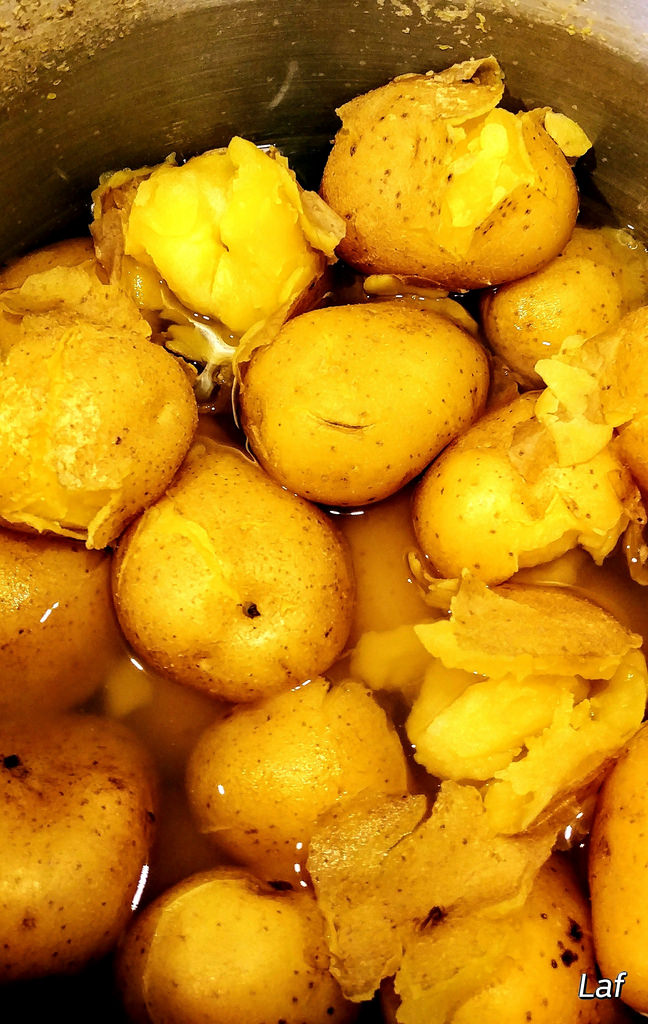boiled potatoes: (169, 195, 560, 1000)
